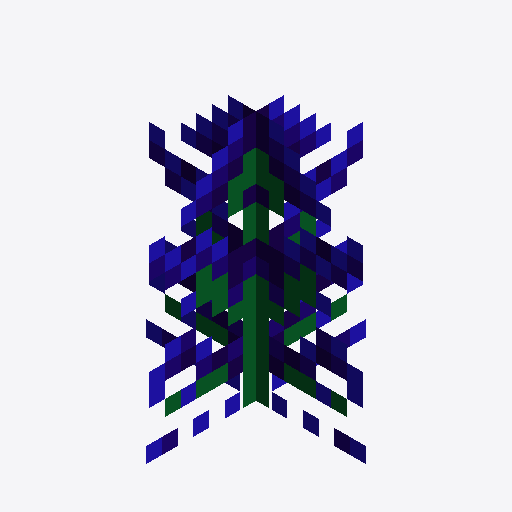
Isometric view (azimuth 45°, elevation 35.3°) of a Minecraft model made of 86 cuboids, textured from the same repository.
Parts seen in each view (by area): TopStalk (×2), element 4, element 47, element 18, element 65, element 19, element 66, element 38, element 79, element 40, element 75, element 17 (+27 smaller).
Boxes of the visible parts, <box> form: TopStalk (×2): <box>243,104,268,407</box>; element 4: <box>269,119,283,217</box>; element 47: <box>228,119,242,217</box>; element 18: <box>284,236,299,316</box>; element 65: <box>212,236,227,316</box>; element 19: <box>300,227,315,307</box>; element 66: <box>196,227,211,307</box>; element 38: <box>269,336,299,389</box>; element 79: <box>212,336,242,389</box>; element 40: <box>316,327,346,380</box>; element 75: <box>165,327,195,380</box>; element 17: <box>269,246,283,325</box>.
Size of the model in its own units: 14 by 16 by 14.